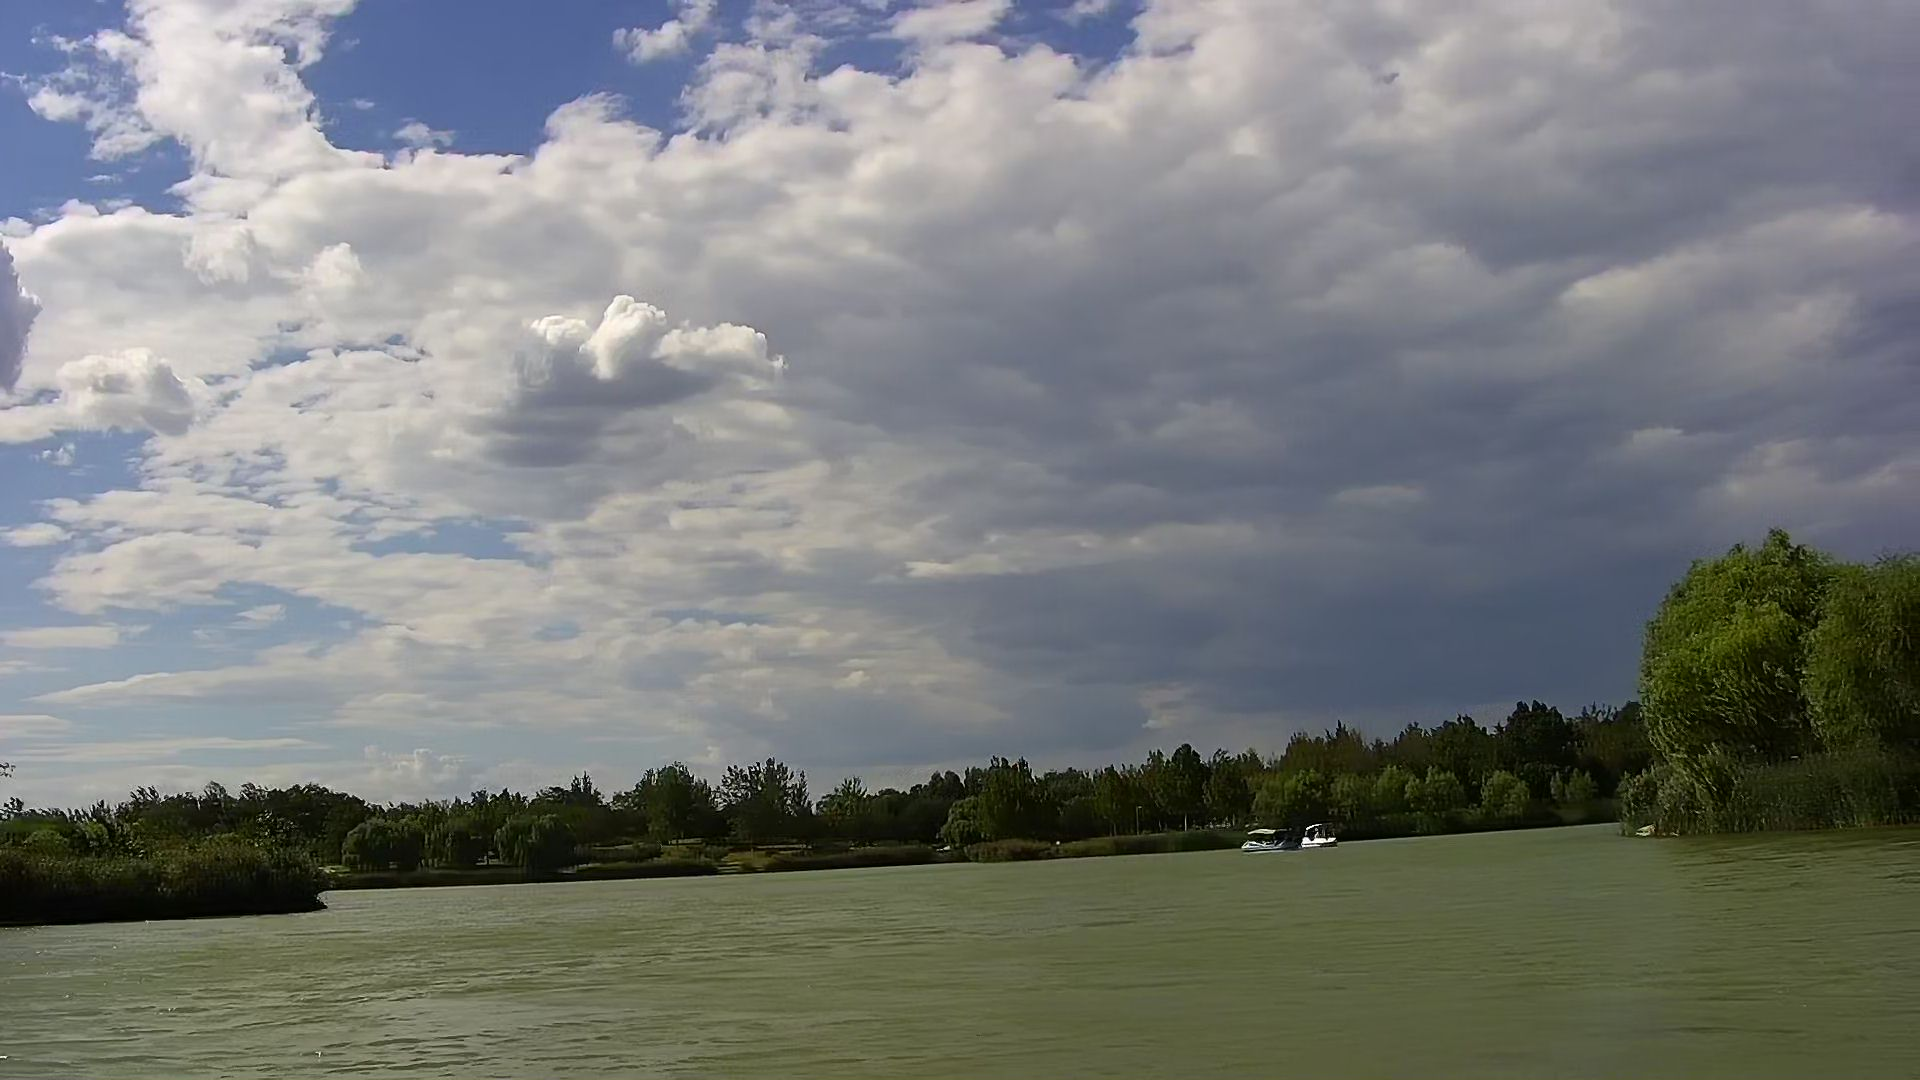boat: (1280, 825, 1342, 851), (1238, 825, 1286, 856)
rock: (1633, 822, 1662, 840)
